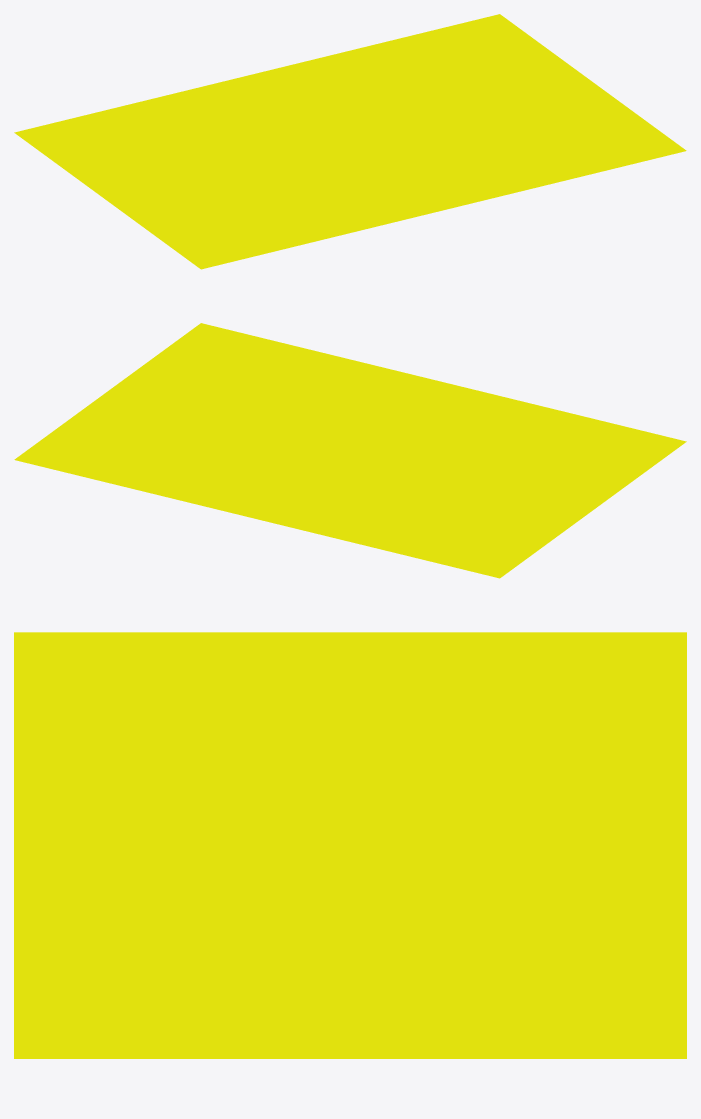
The model's file is floor-inset.glb.
The picture shows the model from 3 angles, top to bottom: view 1: azimuth 30°, elevation 25°; view 2: azimuth 150°, elevation 25°; view 3: azimuth 270°, elevation 25°; orthographic projection. The views are drawn at different scales.
Parts seen in each view (by area): view 1: Floor_Inset; view 2: Floor_Inset; view 3: Floor_Inset.
Part boxes in pixels (x1,y1,x2,y2): Floor_Inset: (14, 14, 686, 269); Floor_Inset: (14, 323, 686, 578); Floor_Inset: (14, 632, 686, 1058).
Bounding box in the file's own units: 2 × 0.1 × 1.33.
2 materials, 2 textured.
